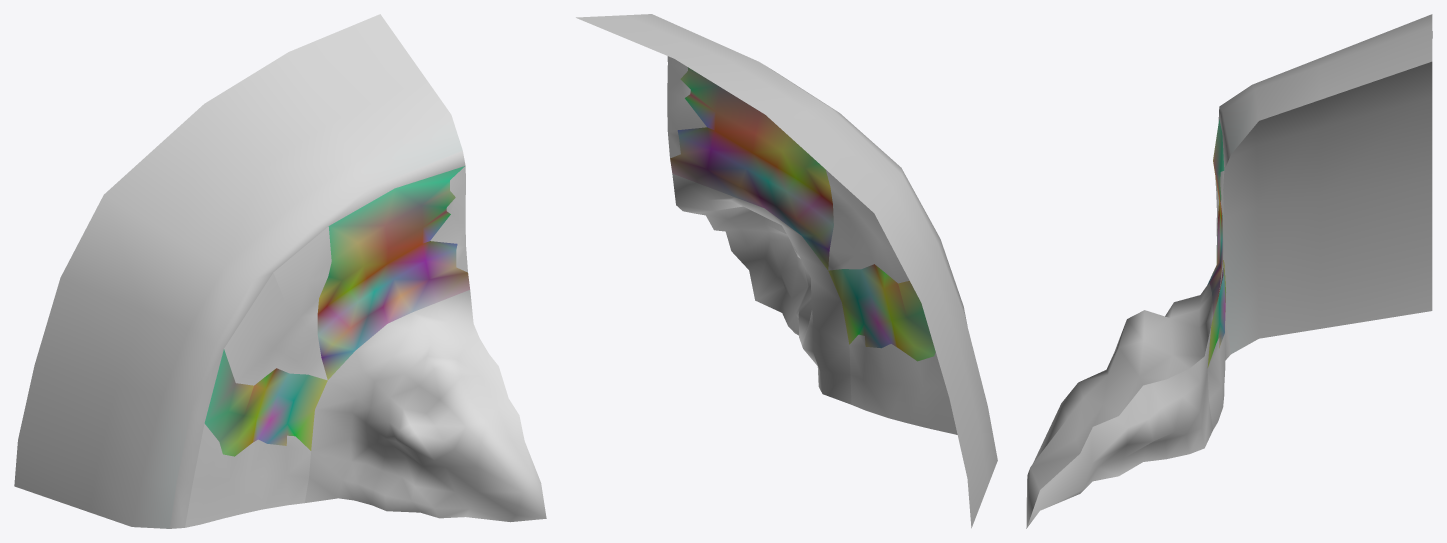
Rendered from Snow_CurveOutC_lod2.glb.
3 renders of one model, left to right at view 1: azimuth 30°, elevation 25°; view 2: azimuth 150°, elevation 25°; view 3: azimuth 270°, elevation 25°, orthographic. The views are drawn at different scales.
Visible parts, largest first — view 1: MeshNode_1, MeshNode_0, MeshNode_2; view 2: MeshNode_1, MeshNode_0, MeshNode_2; view 3: MeshNode_1, MeshNode_0, MeshNode_2.
Part boxes in pixels (x1=…): MeshNode_1: x1=14, y1=14, x2=546, y2=528; MeshNode_0: x1=204, y1=166, x2=469, y2=456; MeshNode_2: x1=185, y1=166, x2=467, y2=527; MeshNode_1: x1=576, y1=14, x2=997, y2=528; MeshNode_0: x1=670, y1=67, x2=935, y2=361; MeshNode_2: x1=667, y1=56, x2=957, y2=434; MeshNode_1: x1=1026, y1=14, x2=1432, y2=528; MeshNode_0: x1=1207, y1=119, x2=1225, y2=367; MeshNode_2: x1=1207, y1=171, x2=1225, y2=429.
Bounding box in the file's own units: 105 × 105 × 82.7.
